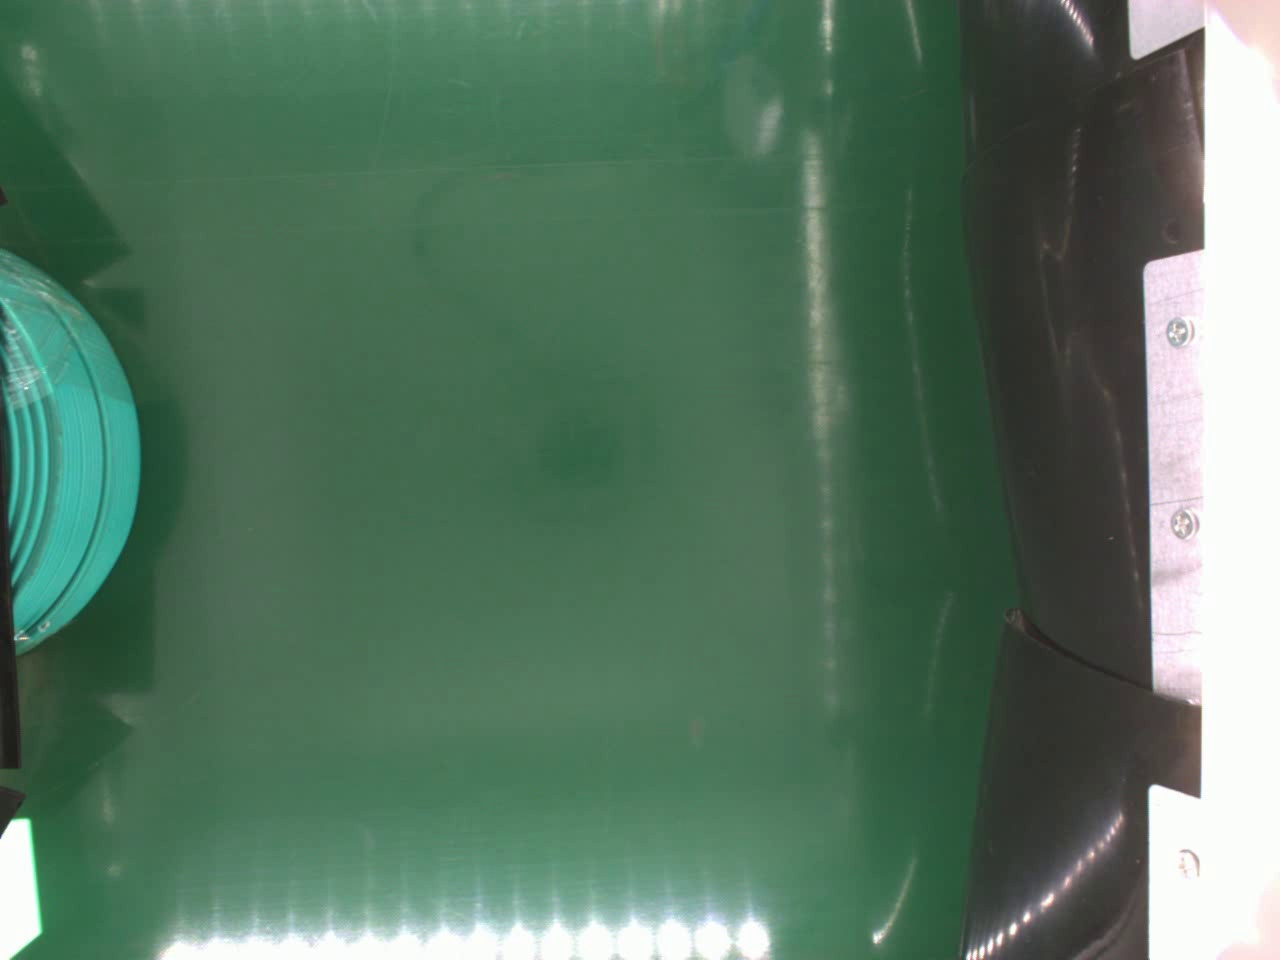green: (0, 250, 140, 652)
